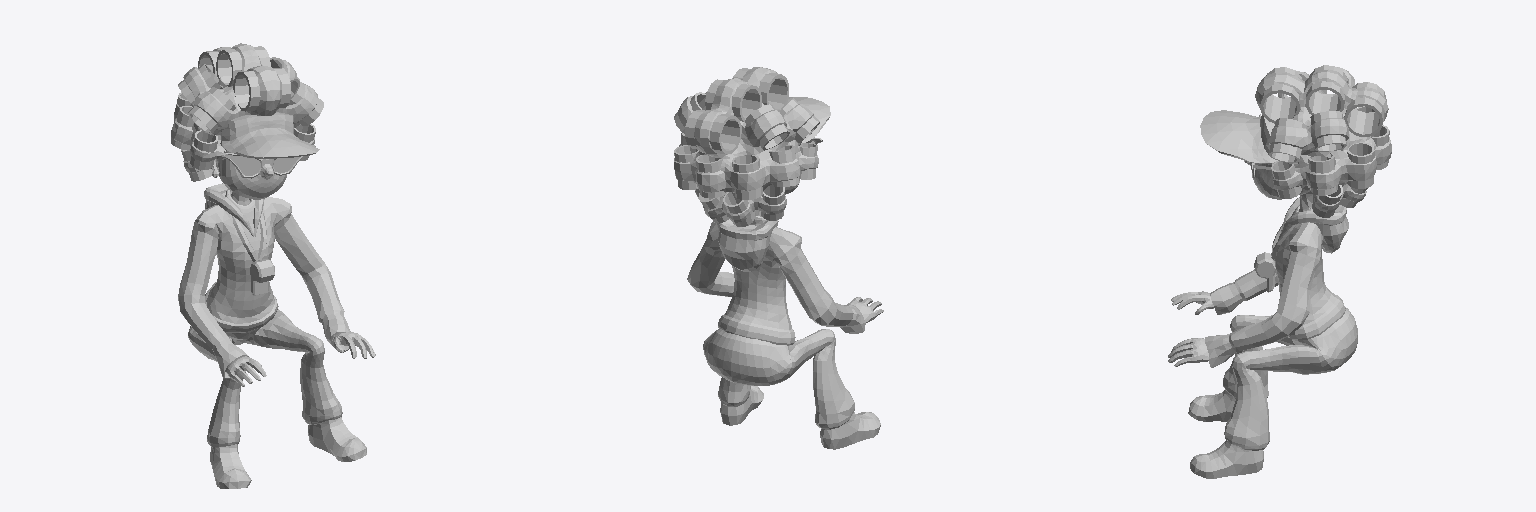
File: humano_mom_1.obj
3 renders of one model, left to right at view 1: azimuth 30°, elevation 25°; view 2: azimuth 150°, elevation 25°; view 3: azimuth 270°, elevation 25°, orthographic.
Visible parts, largest first — view 1: Fitness_Grandma_BodyGeo; view 2: Fitness_Grandma_BodyGeo; view 3: Fitness_Grandma_BodyGeo.
Part boxes in pixels (x1,y1,x2,y2): Fitness_Grandma_BodyGeo: (171, 43, 375, 488); Fitness_Grandma_BodyGeo: (674, 67, 883, 449); Fitness_Grandma_BodyGeo: (1168, 65, 1391, 478).
Size of the model in its own units: 0.4681 by 1.15 by 0.6154.